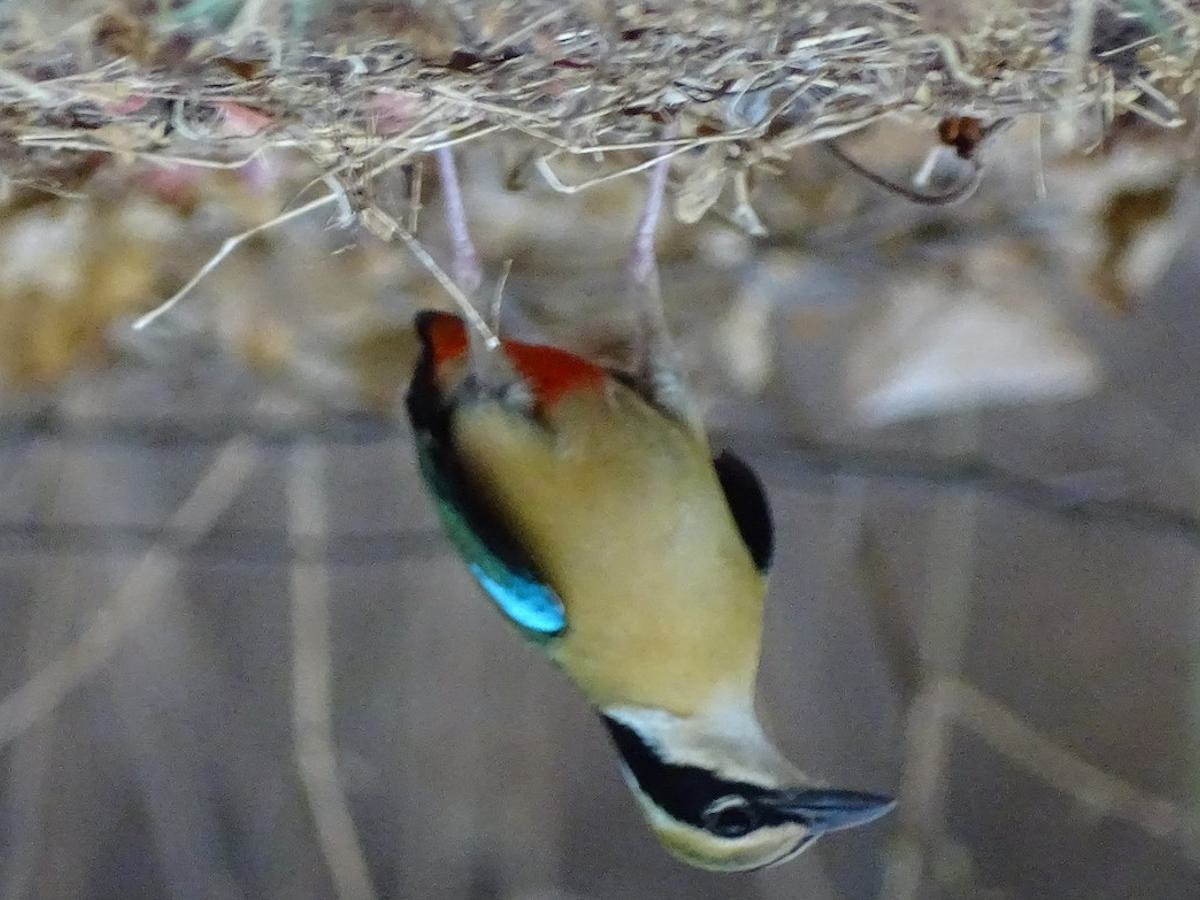pitta: (424, 238, 914, 880)
